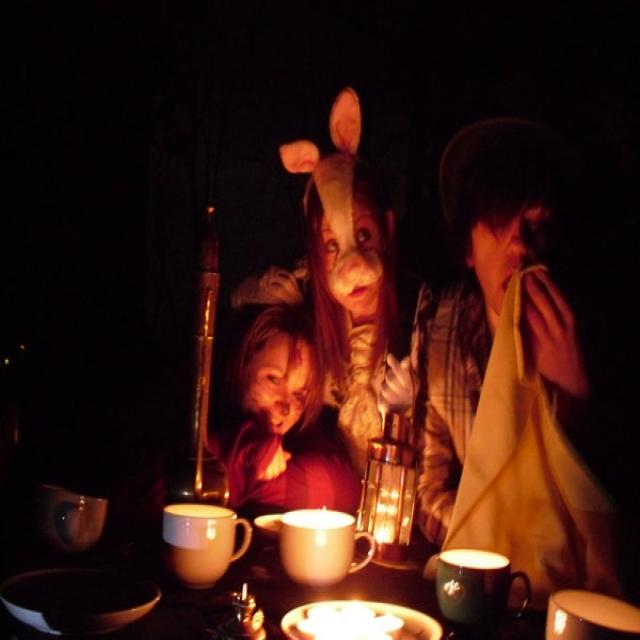Bottle: (351, 378, 430, 550)
Cup: (268, 499, 377, 594), (164, 492, 245, 614), (439, 532, 522, 622), (32, 470, 113, 558), (547, 566, 640, 640)
People: (408, 80, 622, 478), (302, 108, 417, 475), (214, 259, 320, 520)
Table: (4, 469, 640, 640)
